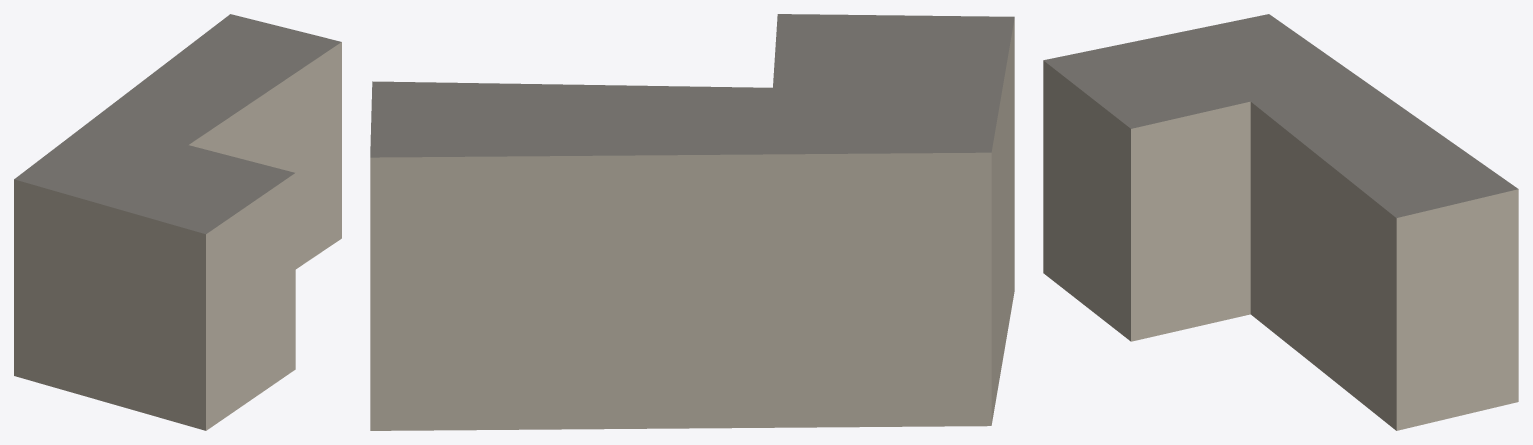
3 renders of one model, left to right at view 1: azimuth 30°, elevation 25°; view 2: azimuth 150°, elevation 25°; view 3: azimuth 270°, elevation 25°, orthographic. The views are drawn at different scales.
Visible parts, largest first — view 1: HP-w505643590; view 2: HP-w505643590; view 3: HP-w505643590.
Boxes of the visible parts, x1,y1,x2,y2 form: HP-w505643590: (14,14,341,430); HP-w505643590: (370,14,1014,430); HP-w505643590: (1043,14,1518,430).
Bounding box in the file's own units: 30.85 × 15 × 30.37.
